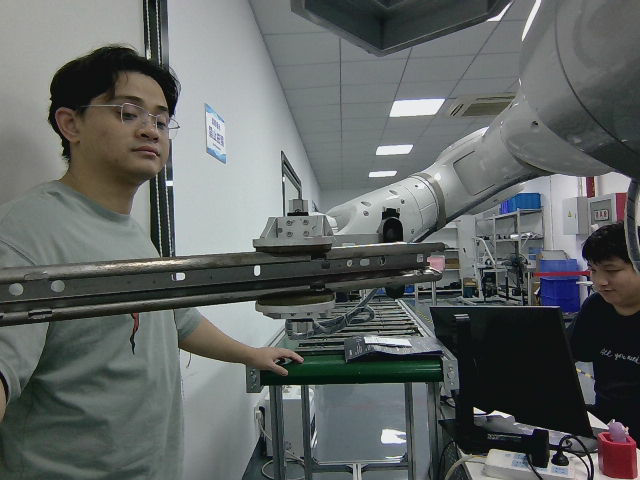left: (1, 235, 446, 324)
